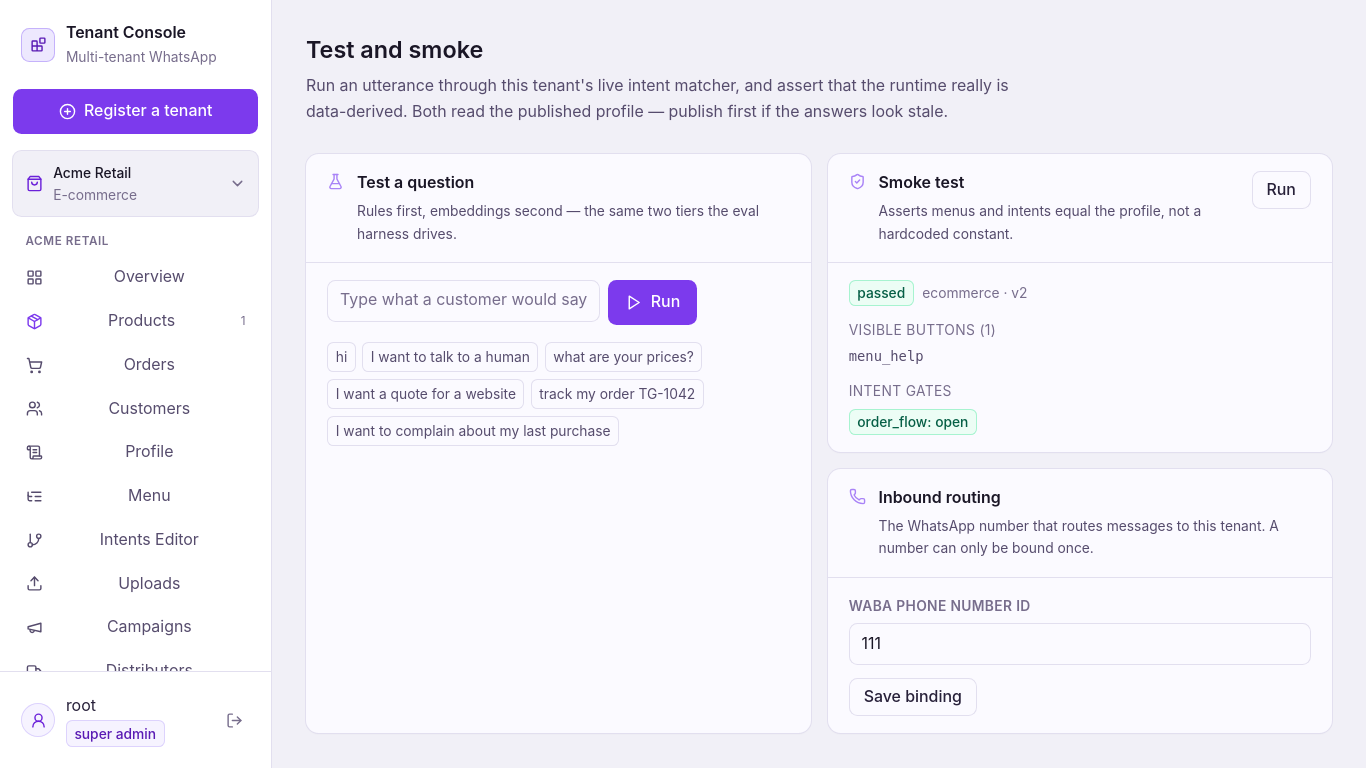
Test: test and smoke page interactions › asks a test question and shows the matched intent
In the field with placeholder "Type what a customer would say…": (464, 301) [327,280,600,322], type "hi"
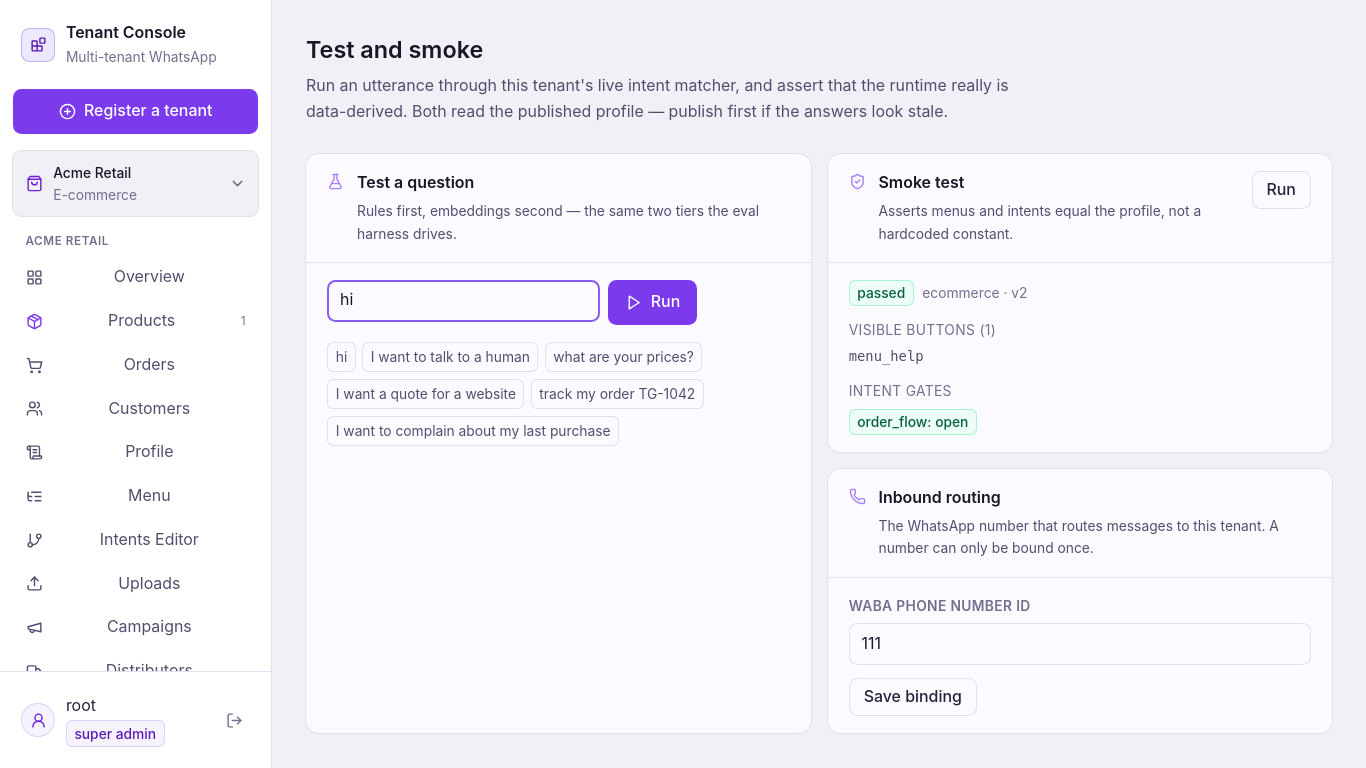
Click the button "Run" below "Test a question": (653, 302) [608,280,697,325]
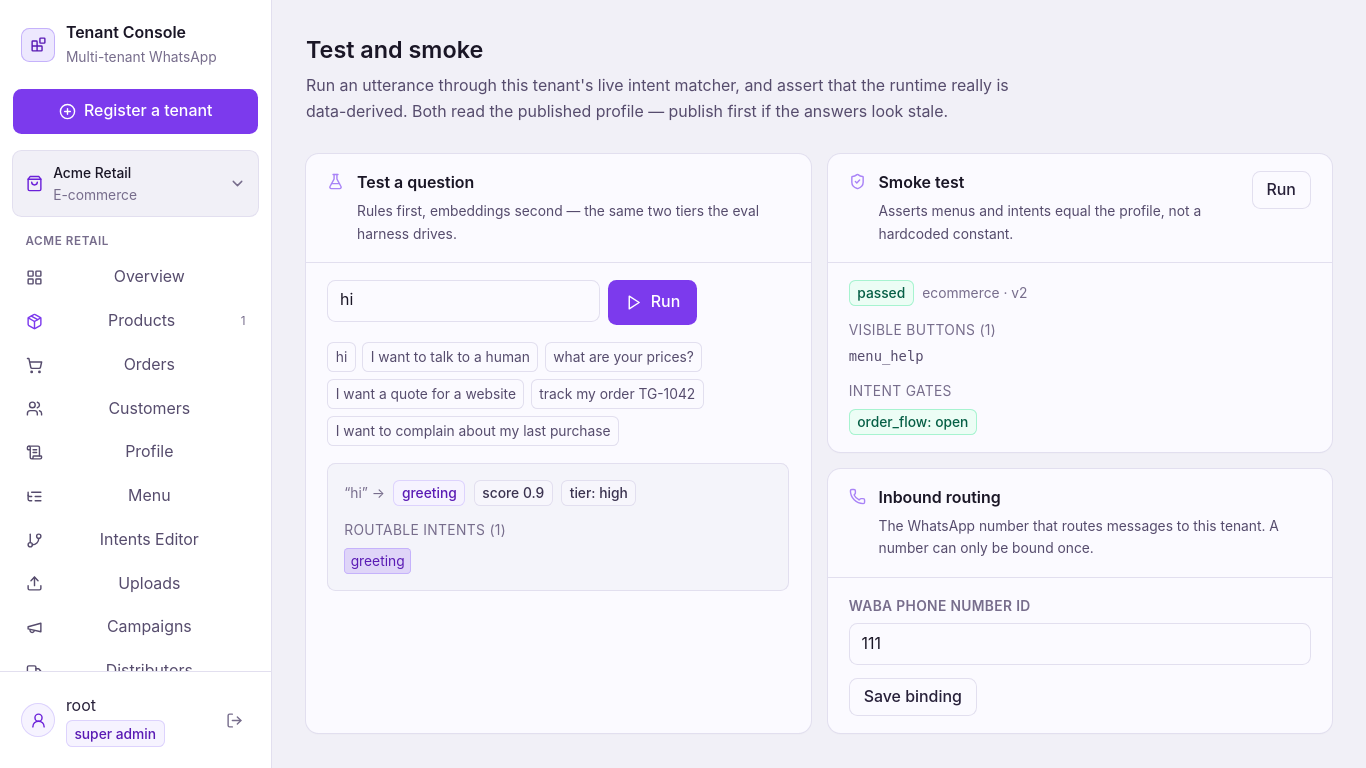
Expected: the text "greeting" next to "score" is shown, [402,485,457,501]
